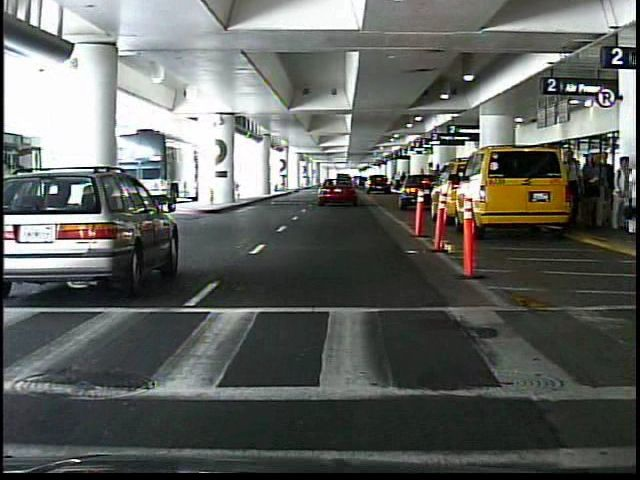person: (613, 154, 638, 233)
